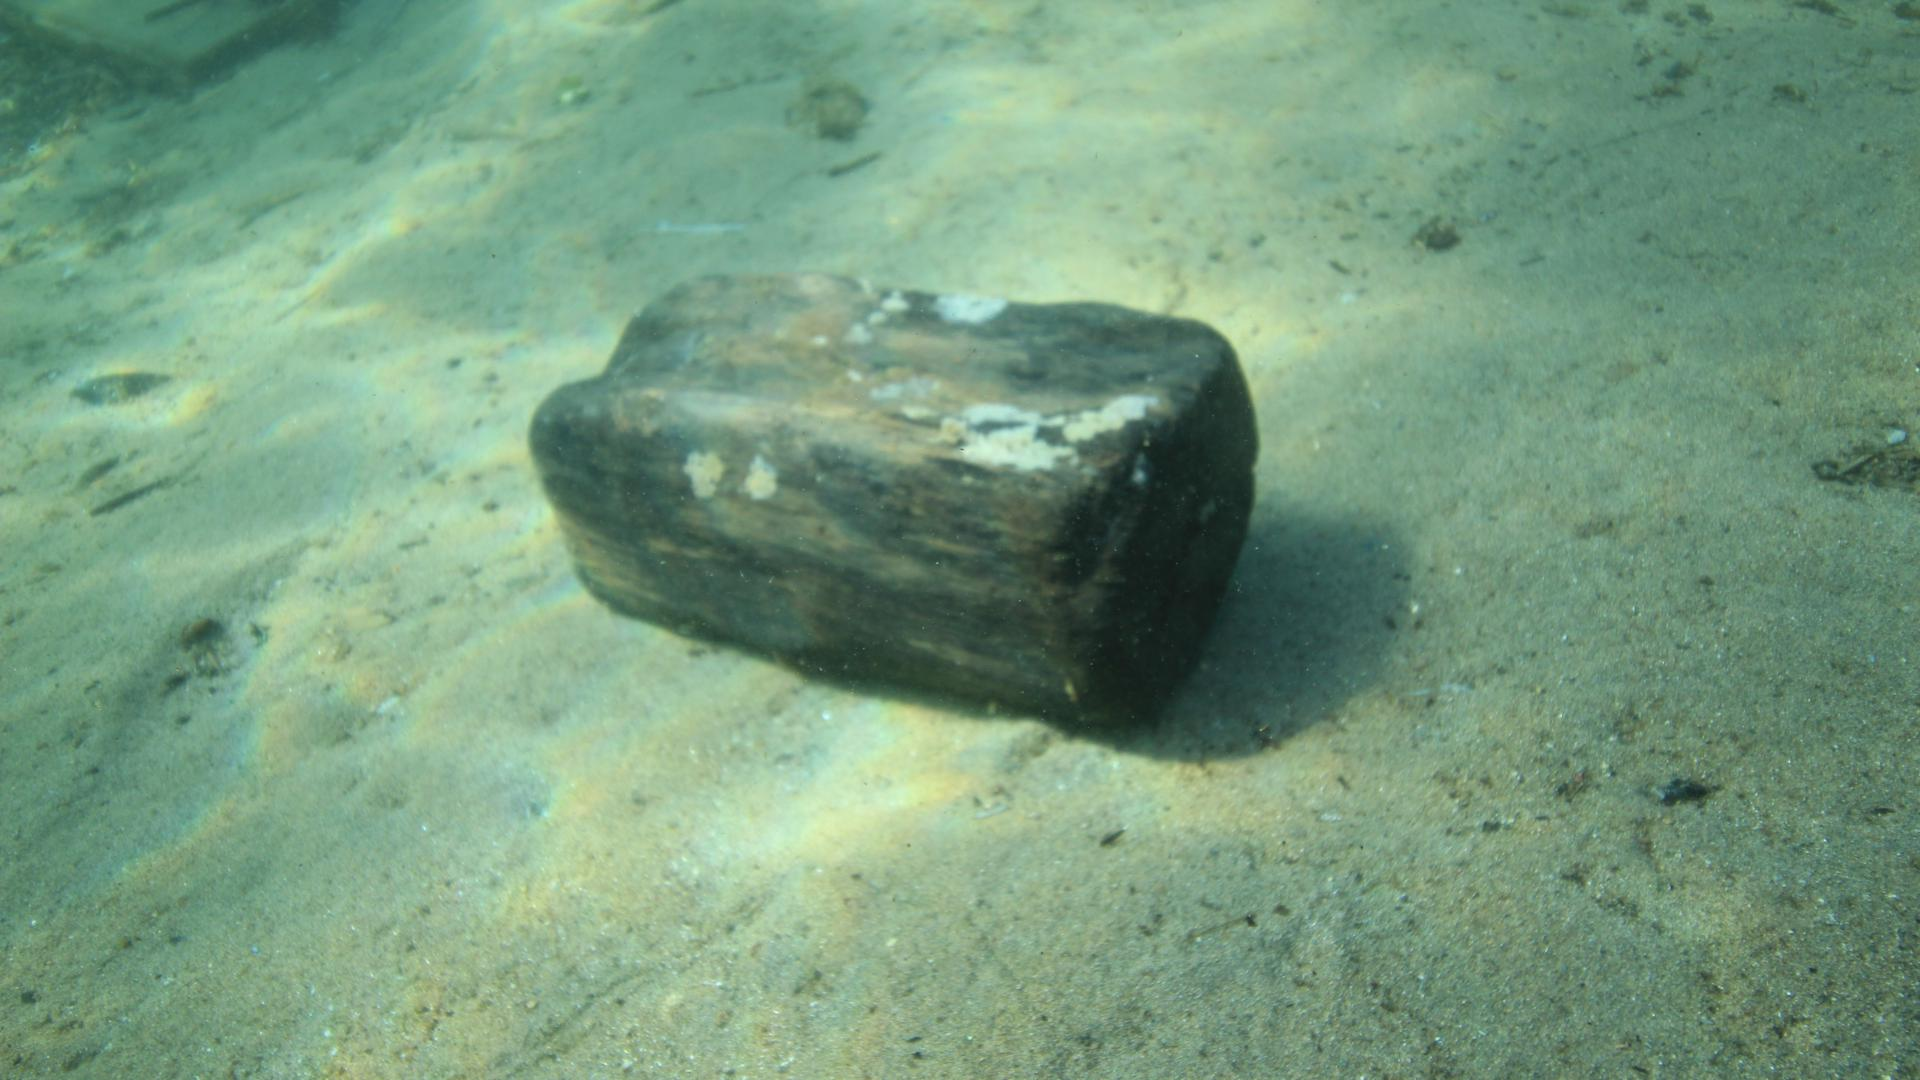wood: (526, 270, 1255, 746)
